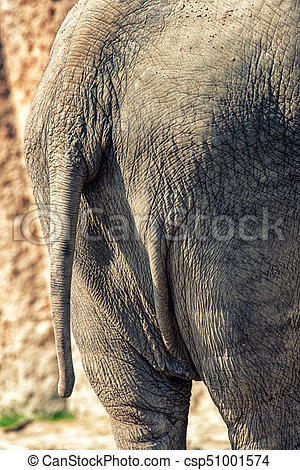elephant: (13, 3, 300, 449)
